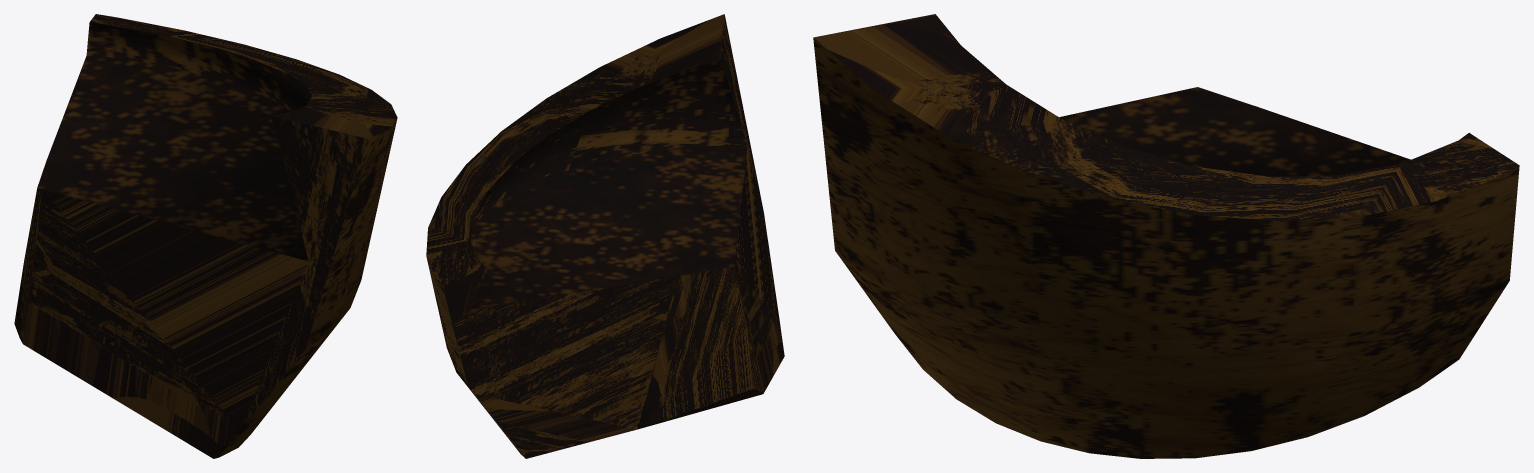
File: PoteryPiece6.fbx
The picture shows the model from 3 angles, left to right: view 1: azimuth 30°, elevation 25°; view 2: azimuth 150°, elevation 25°; view 3: azimuth 270°, elevation 25°; orthographic projection. The views are drawn at different scales.
Parts seen in each view (by area): view 1: Cylinder_cell.005; view 2: Cylinder_cell.005; view 3: Cylinder_cell.005.
Boxes of the visible parts, <box> form: Cylinder_cell.005: <box>14,14,397,458</box>; Cylinder_cell.005: <box>426,14,784,458</box>; Cylinder_cell.005: <box>813,14,1519,458</box>.
Size of the model in its own units: 139 by 141 by 217.
